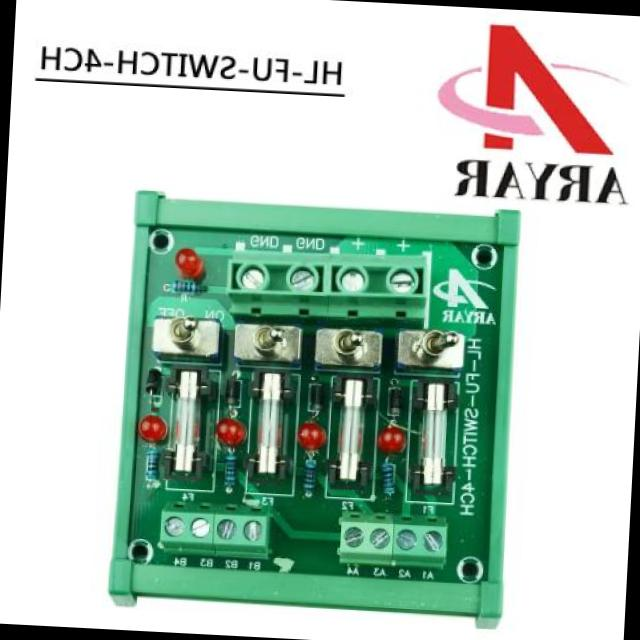LED: (286, 409, 328, 458), (124, 410, 168, 456), (210, 407, 254, 452), (173, 238, 214, 286), (374, 422, 406, 458)
connector: (225, 224, 448, 330), (327, 510, 448, 580), (156, 501, 268, 559)
diode: (136, 362, 168, 405), (215, 370, 245, 412), (382, 375, 404, 421), (298, 376, 322, 410)
resistor: (373, 458, 402, 506), (170, 274, 212, 304), (294, 453, 318, 505), (216, 448, 245, 489), (137, 449, 164, 485)
